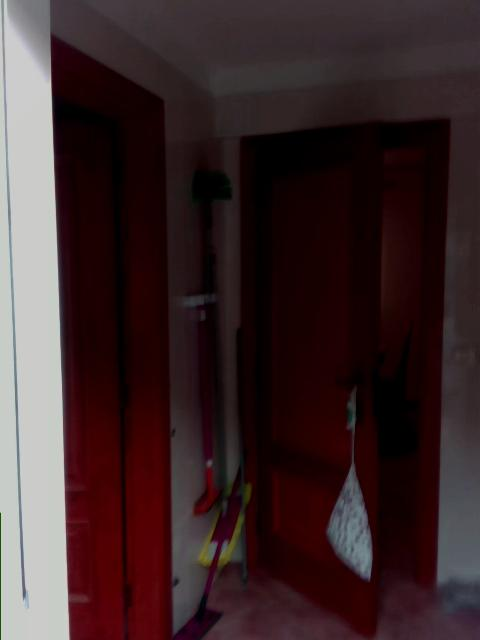semi_door: (241, 116, 452, 639)
